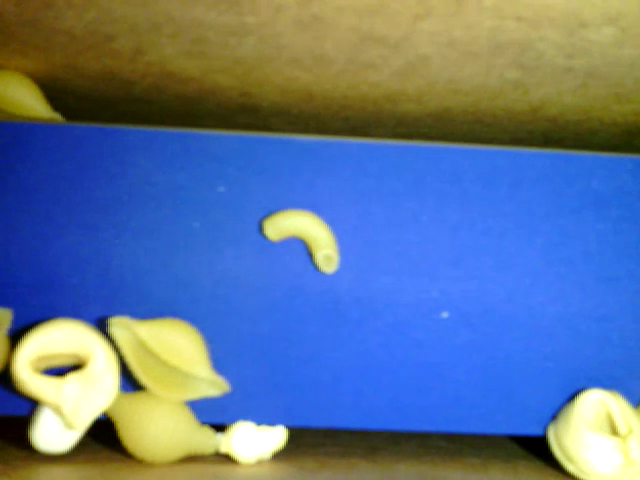elbow: (260, 206, 341, 272)
shell: (110, 316, 233, 400), (104, 389, 226, 465), (2, 65, 71, 127)
tortellini: (9, 318, 122, 422), (549, 386, 635, 477)
